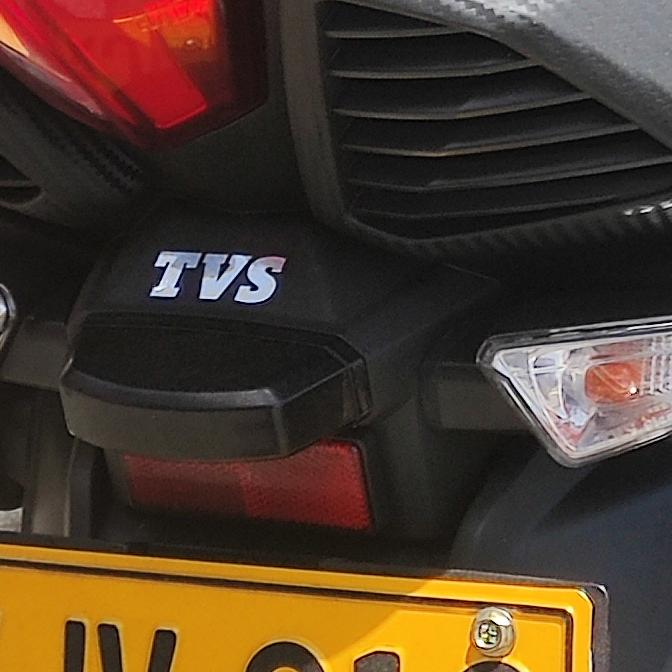plates: (0, 539, 588, 672)
